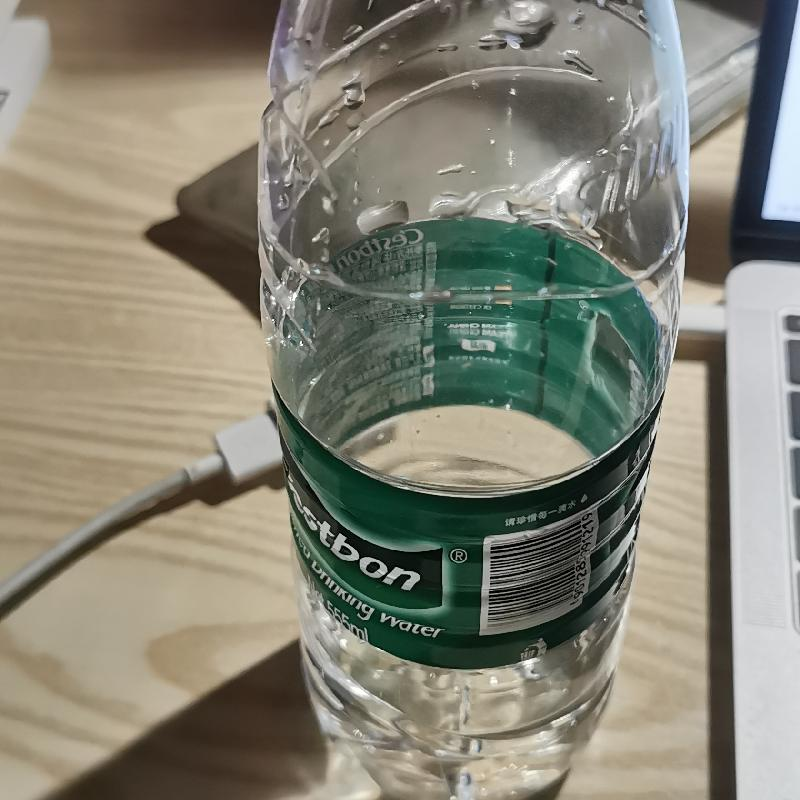bottles: (256, 4, 688, 799)
